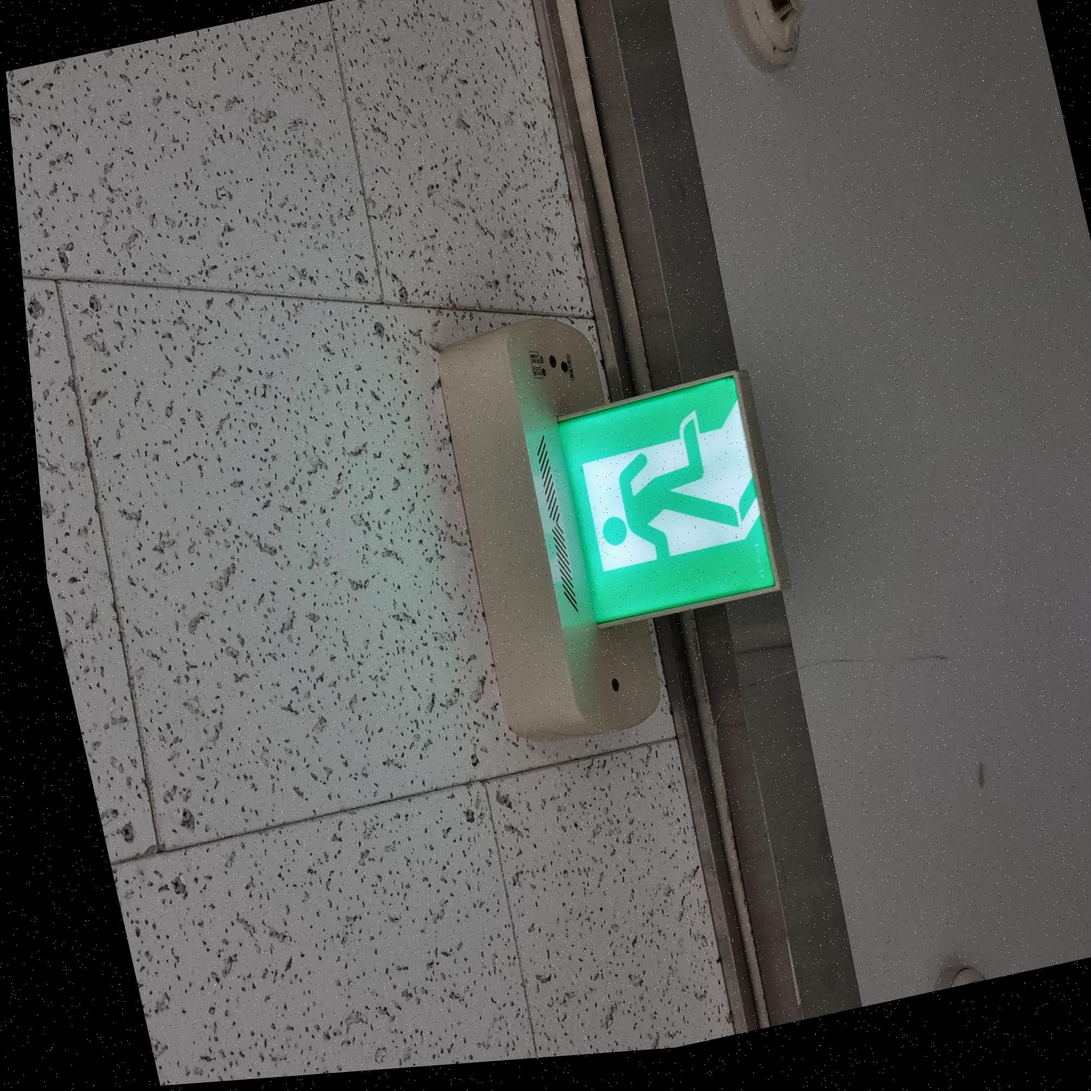emergency_exit: (555, 367, 786, 630)
